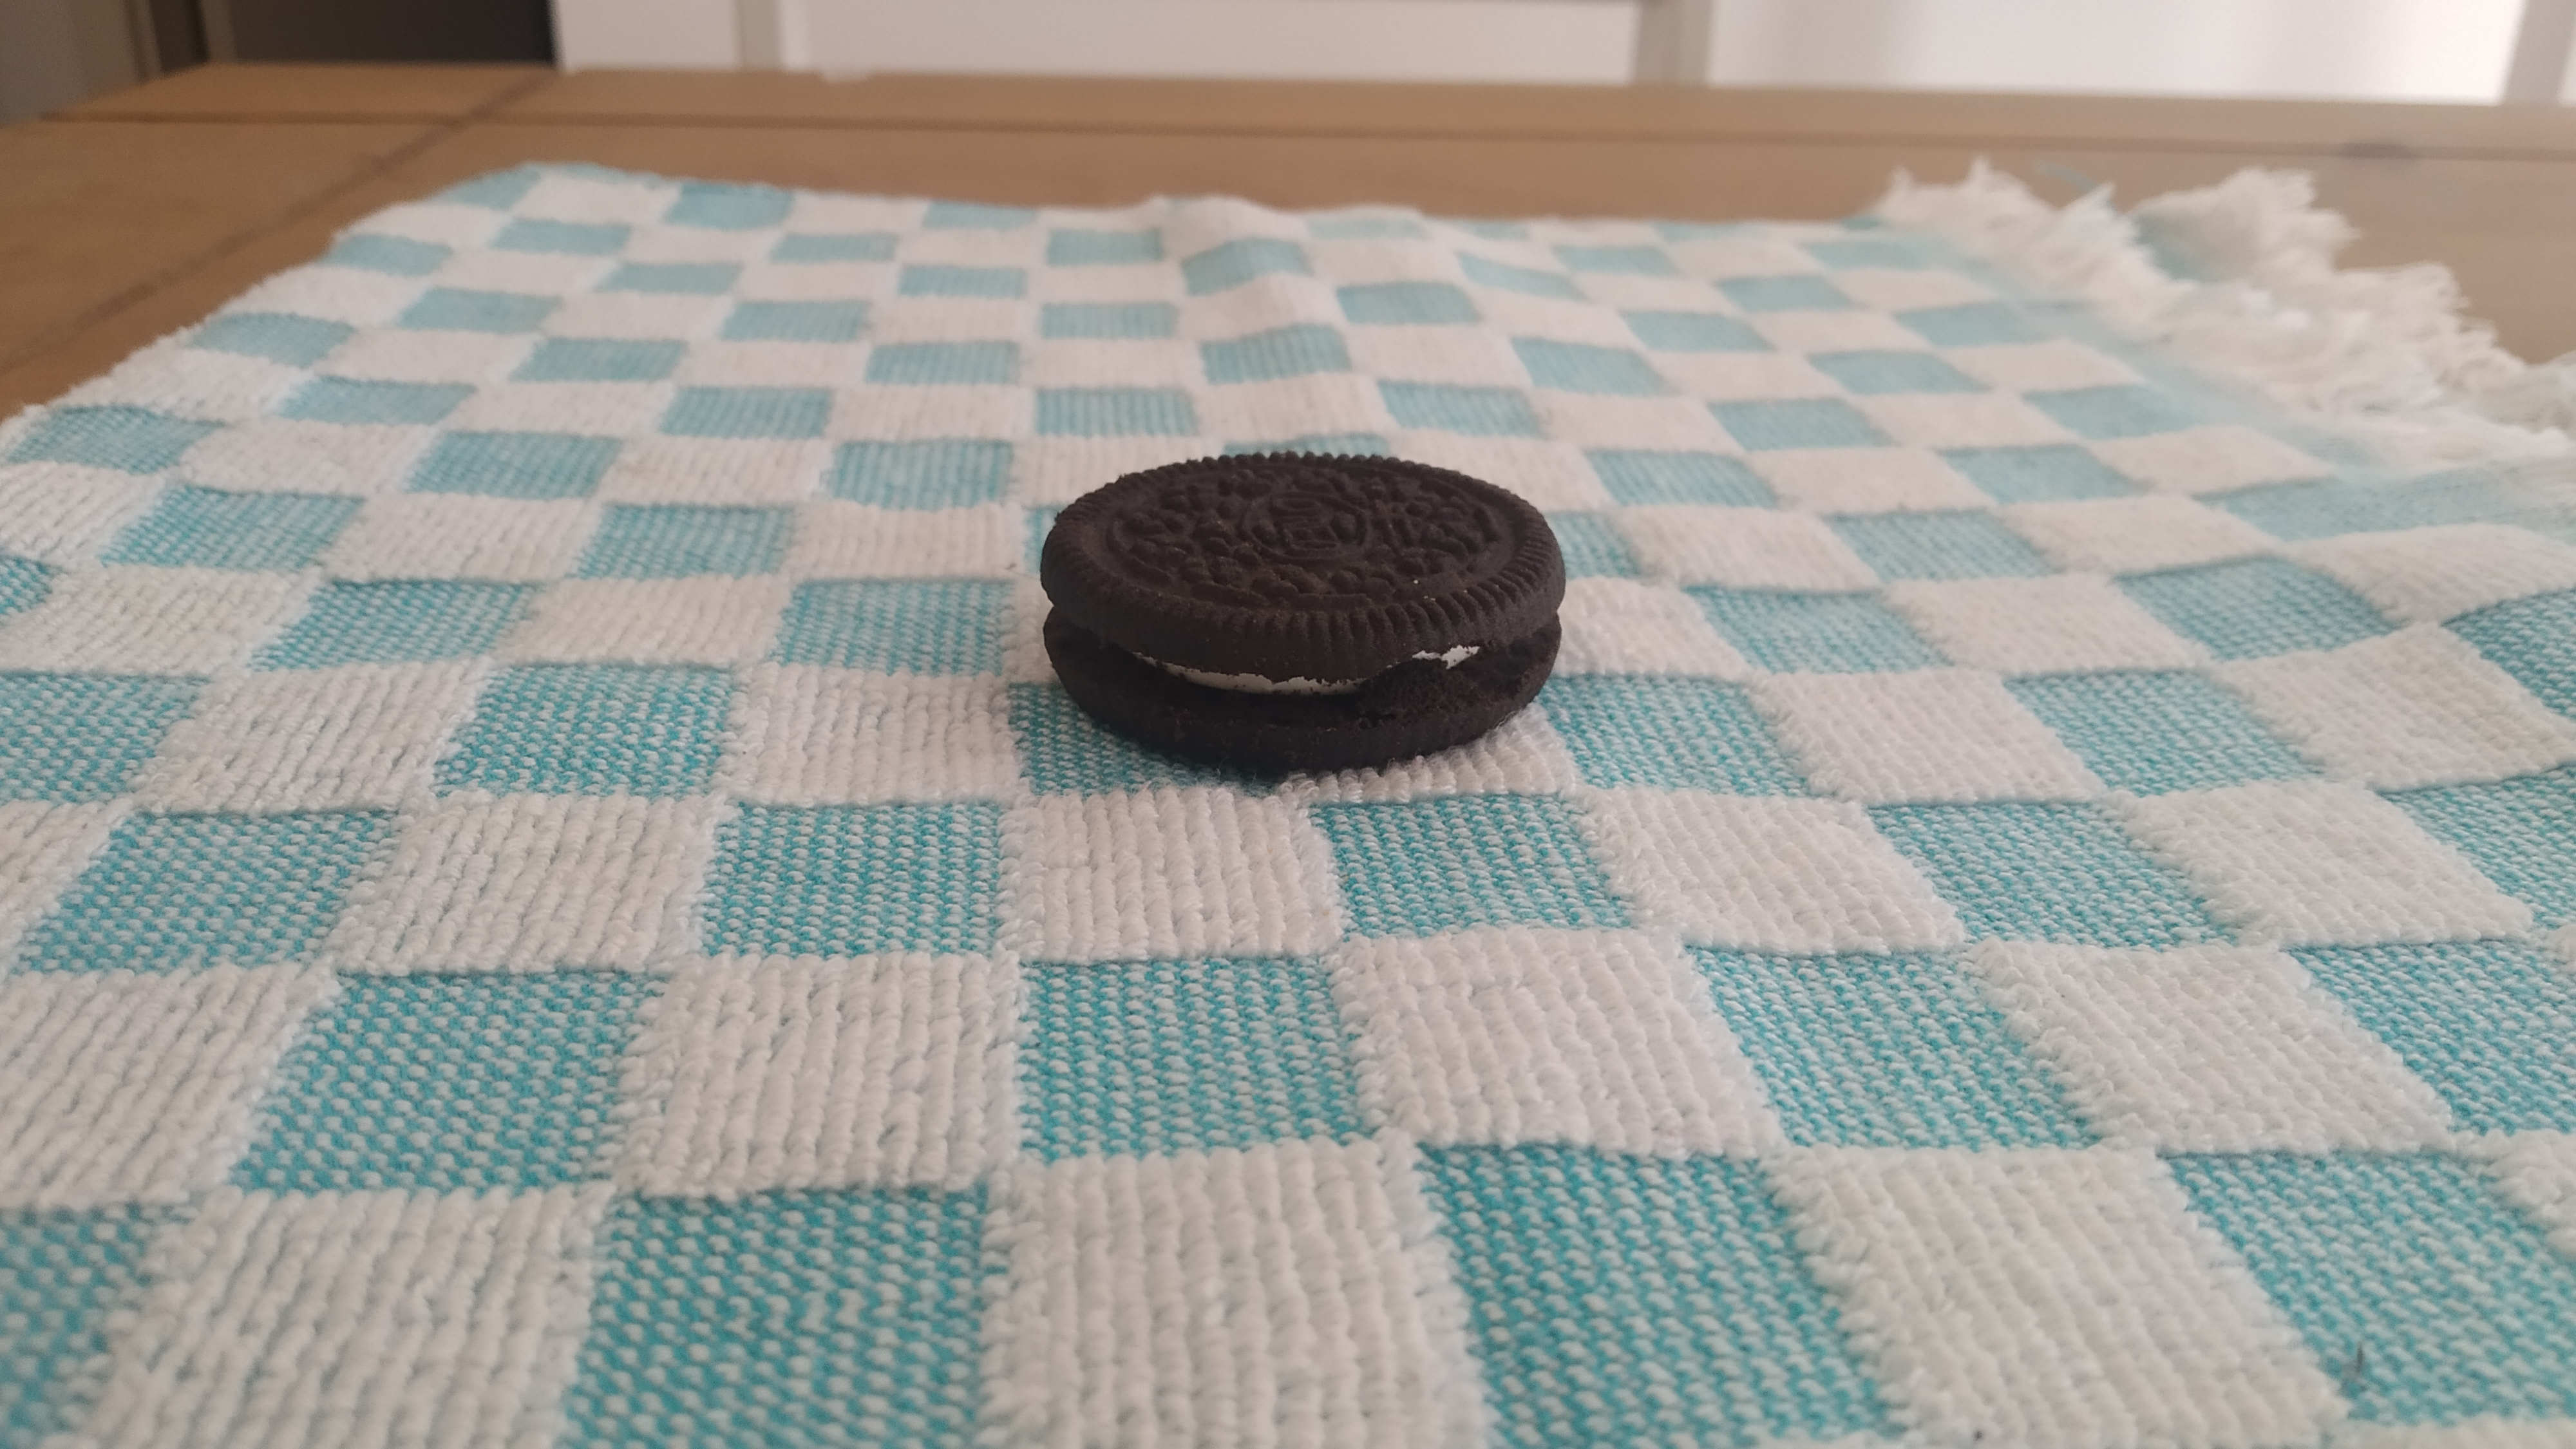oreo: (1039, 451, 1566, 775)
